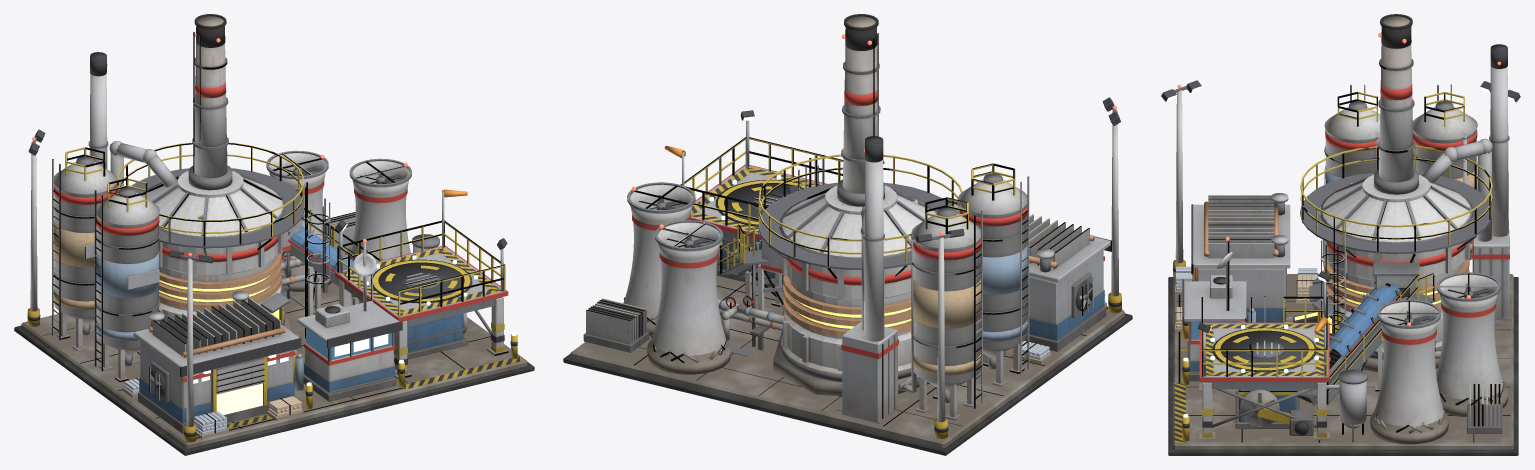
The model's file is refinery.glb.
3 views of the same model, side by side, from view 1: azimuth 30°, elevation 25°; view 2: azimuth 150°, elevation 25°; view 3: azimuth 270°, elevation 25° (orthographic). The views are drawn at different scales.
Parts seen in each view (by area): view 1: SilosBody, Build0Body, Build5Body, Build1Body, Build3Body, TowersBody, Build12Body, Build10Body, StacksBody, Build14Body, Build4Body, Build9Body (+4 smaller); view 2: SilosBody, Build0Body, Build1Body, TowersBody, Build11Body, Build5Body, Build10Body, Build3Body, StacksBody, Build14Body, Build9Body, Build4Body (+2 smaller); view 3: TowersBody, Build0Body, Build1Body, Build3Body, Build5Body, Build10Body, SilosBody, StacksBody, Build11Body, Build4Body, Build13Body, Build12Body (+5 smaller).
Boxes of the visible parts, <box> form: SilosBody: <box>52,147,160,382</box>; Build0Body: <box>14,282,534,455</box>; Build5Body: <box>133,297,301,433</box>; Build1Body: <box>141,170,304,330</box>; Build3Body: <box>335,189,508,379</box>; TowersBody: <box>266,150,411,291</box>; Build12Body: <box>297,301,402,401</box>; Build10Body: <box>117,142,330,338</box>; StacksBody: <box>188,14,232,190</box>; Build14Body: <box>27,129,213,442</box>; Build4Body: <box>287,208,382,315</box>; Build9Body: <box>109,141,348,390</box>; SilosBody: <box>911,163,1029,420</box>; Build0Body: <box>563,274,1132,455</box>; Build1Body: <box>758,185,937,395</box>; TowersBody: <box>583,182,730,374</box>; Build11Body: <box>841,136,898,423</box>; Build5Body: <box>1024,214,1111,351</box>; Build10Body: <box>737,154,962,346</box>; Build3Body: <box>664,110,843,307</box>; StacksBody: <box>837,14,884,206</box>; Build14Body: <box>915,97,1121,438</box>; Build9Body: <box>718,206,919,392</box>; Build4Body: <box>720,228,783,326</box>; TowersBody: <box>1370,272,1507,444</box>; Build0Body: <box>1168,274,1518,455</box>; Build1Body: <box>1282,174,1472,372</box>; Build3Body: <box>1197,271,1331,440</box>; Build5Body: <box>1191,195,1290,322</box>; Build10Body: <box>1300,145,1492,334</box>; SilosBody: <box>1324,84,1477,260</box>; StacksBody: <box>1374,14,1418,194</box>; Build11Body: <box>1472,44,1509,320</box>; Build4Body: <box>1297,271,1419,405</box>; Build13Body: <box>1210,193,1367,441</box>; Build12Body: <box>1182,279,1246,381</box>.
Size of the model in its own units: 13.17 by 11.29 by 11.18.
28 materials, 14 textured.
